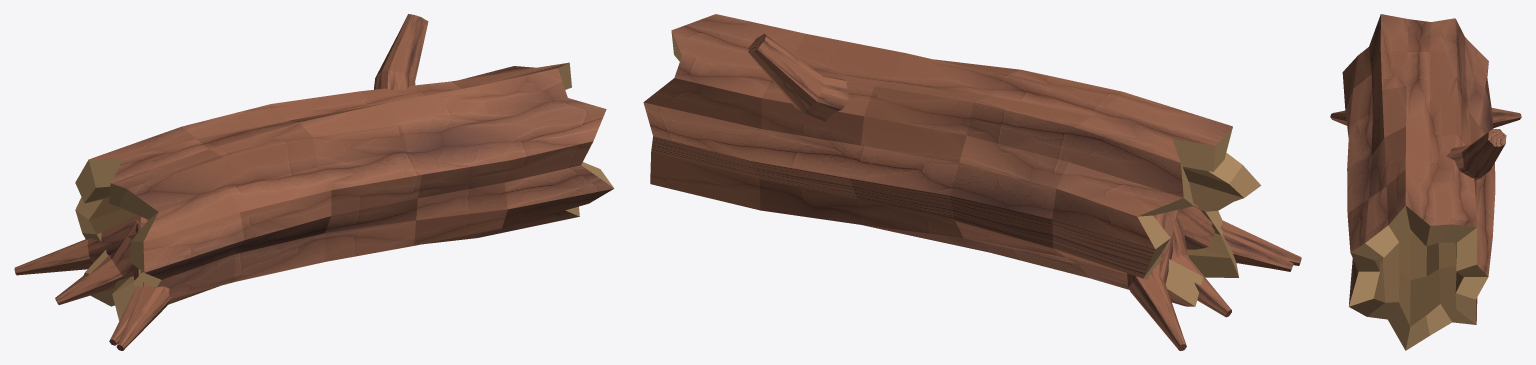
File: A_Woodland_Log_Barren.glb
3 renders of one model, left to right at view 1: azimuth 30°, elevation 25°; view 2: azimuth 150°, elevation 25°; view 3: azimuth 270°, elevation 25°, orthographic. The views are drawn at different scales.
Visible parts, largest first — view 1: Structure; view 2: Structure; view 3: Structure.
Boxes of the visible parts, x1,y1,x2,y2 form: Structure: [14, 14, 614, 350]; Structure: [643, 14, 1301, 350]; Structure: [1330, 14, 1521, 350].
Size of the model in its own units: 3.64 by 1.33 by 1.34.
3 materials, 1 textured.
